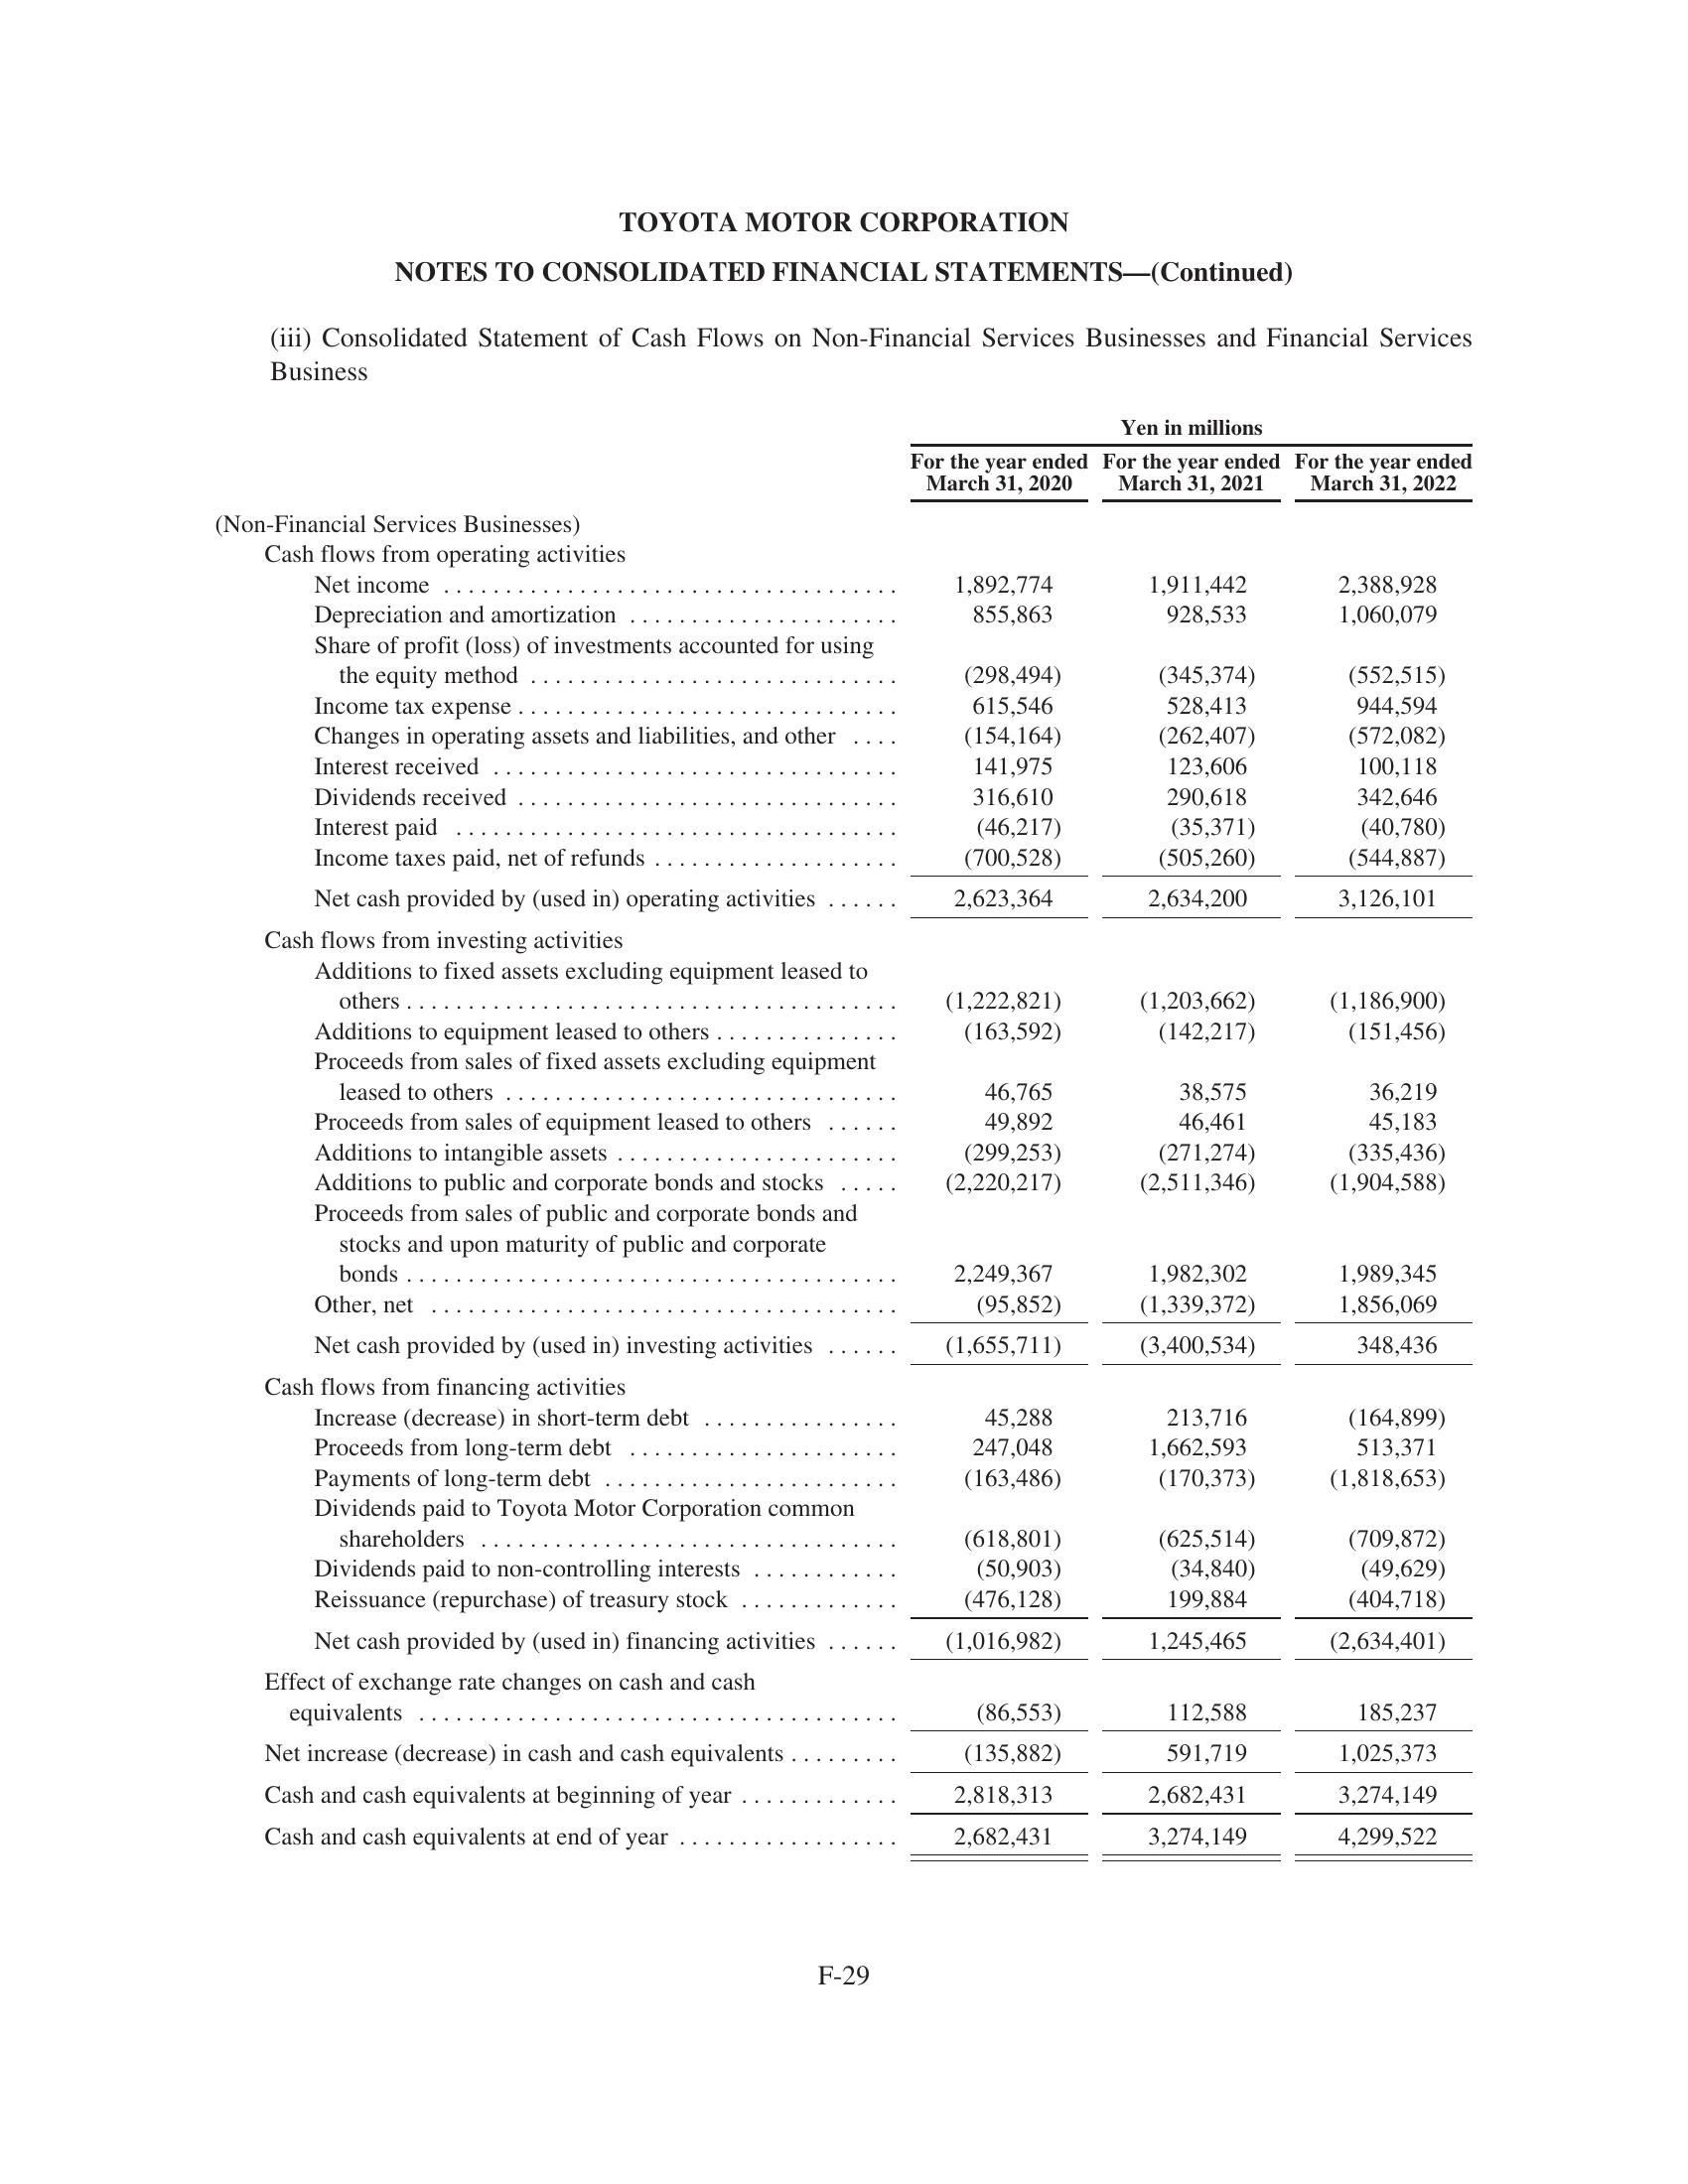Footer: (0, 1954, 1688, 2184)
Header: (0, 0, 1688, 179)
Table: (137, 404, 1509, 1874)
